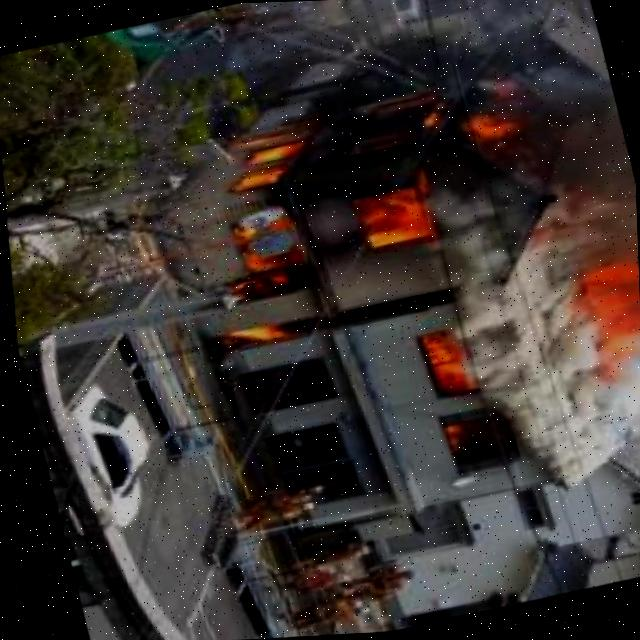fire: (201, 87, 554, 305), (559, 226, 640, 392), (413, 330, 491, 474)
